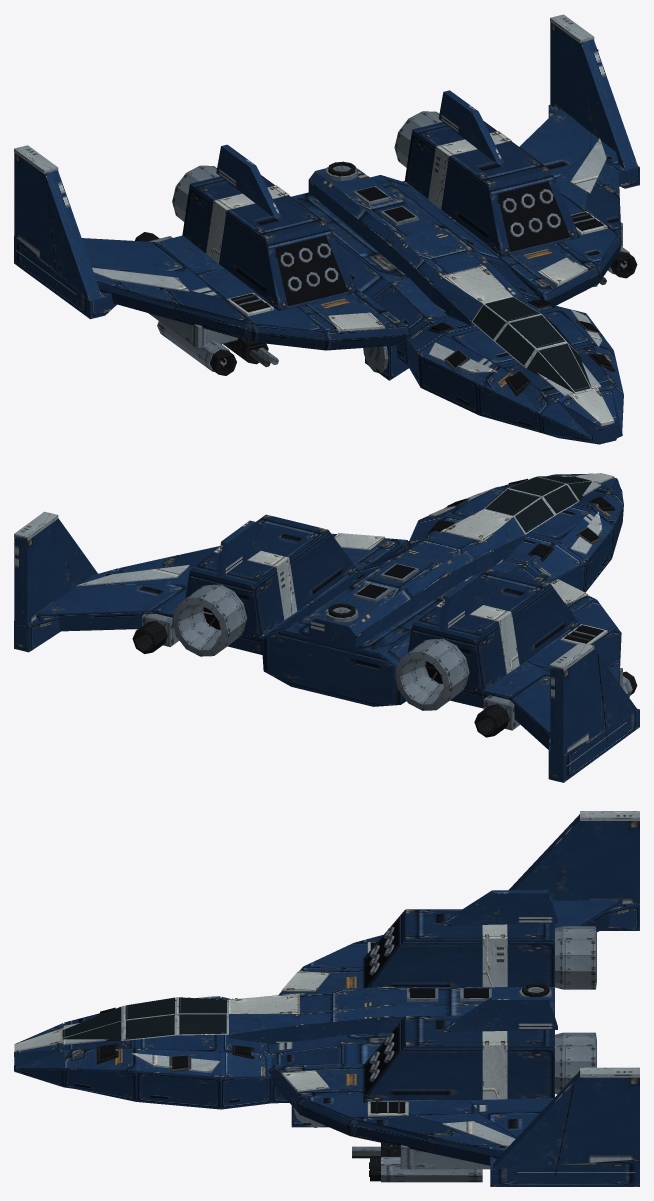
File: blade.glb
3 renders of one model, top to bottom at view 1: azimuth 30°, elevation 25°; view 2: azimuth 150°, elevation 25°; view 3: azimuth 270°, elevation 25°, orthographic.
Visible parts, largest first — view 1: Blade; view 2: Blade; view 3: Blade.
Boxes of the visible parts, x1,y1,x2,y2 form: Blade: [14, 14, 639, 444]; Blade: [14, 473, 639, 782]; Blade: [14, 811, 639, 1186].
Bounding box in the file's own units: 1.98 × 0.518 × 1.99.
Materials: 2 (2 with a texture image).
